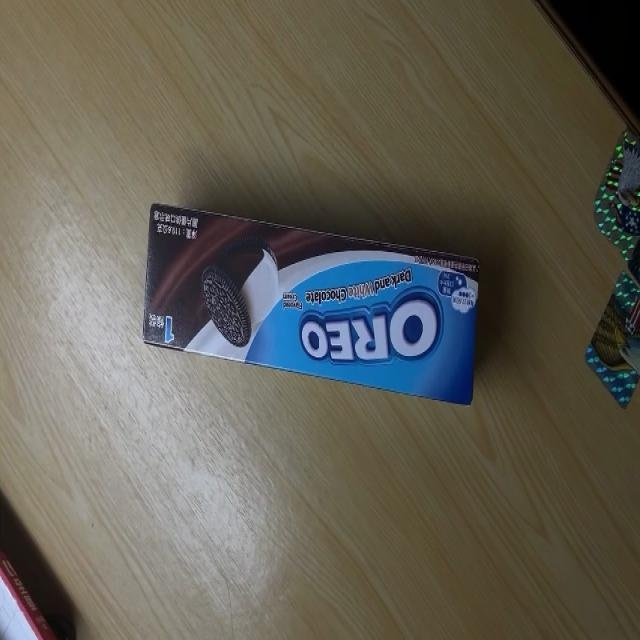Oreo: (141, 204, 482, 407)
